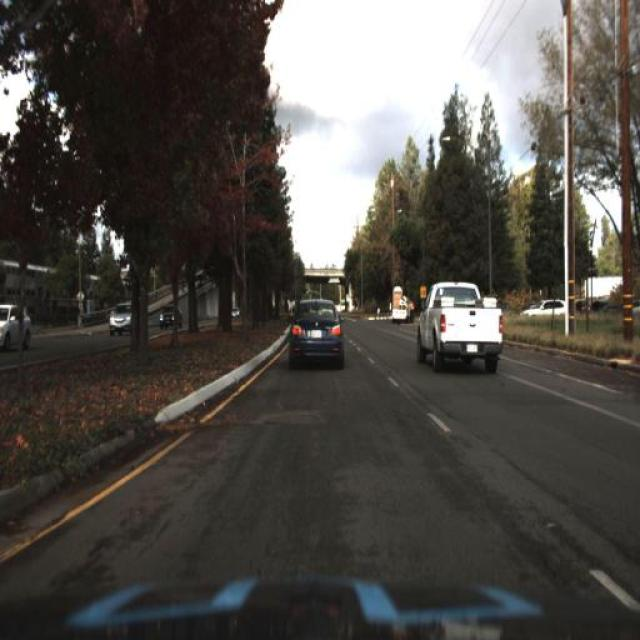car: (413, 270, 511, 382), (283, 290, 347, 374), (526, 287, 580, 333), (0, 302, 32, 352), (106, 296, 135, 342), (154, 299, 185, 339), (523, 298, 572, 322), (389, 287, 412, 323), (390, 284, 409, 324), (155, 303, 181, 331)
